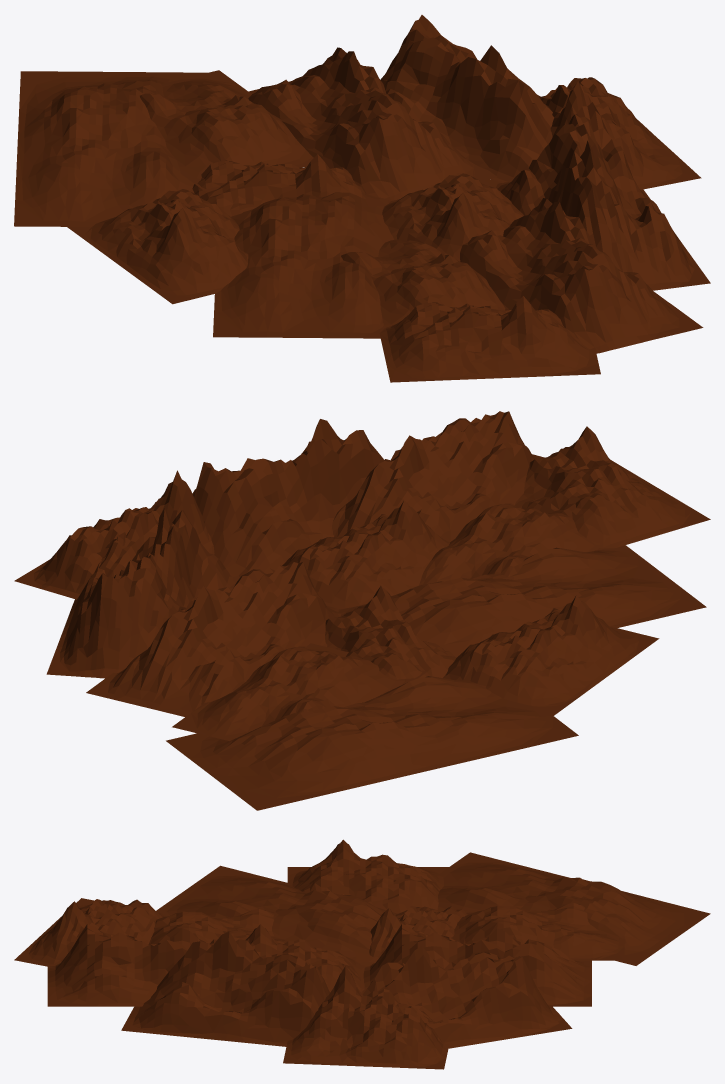
Rendered from Mountain.fbx.
3 views of the same model, one above another, from view 1: azimuth 30°, elevation 25°; view 2: azimuth 150°, elevation 25°; view 3: azimuth 270°, elevation 25° (orthographic). The views are drawn at different scales.
Parts seen in each view (by area): view 1: Landscape.006; view 2: Landscape.006; view 3: Landscape.006.
Part boxes in pixels (<box>): Landscape.006: <box>14,15,710,382</box>; Landscape.006: <box>14,411,710,810</box>; Landscape.006: <box>14,839,710,1069</box>.
Bounding box in the file's own units: 862 × 154 × 1169.
